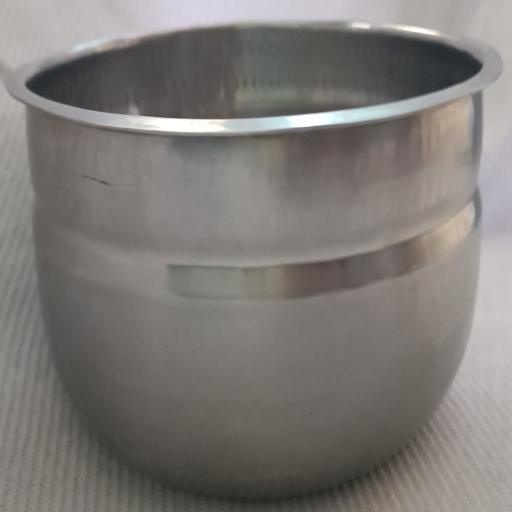vessel: (8, 23, 501, 498)
